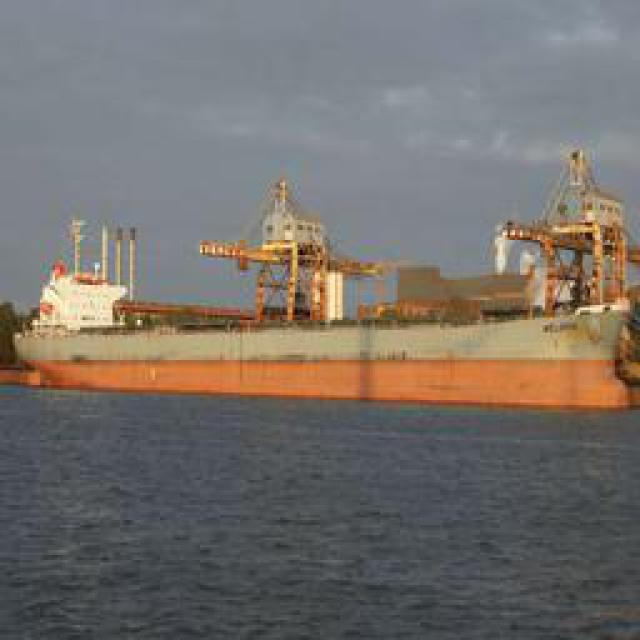Ship: (21, 182, 629, 400)
